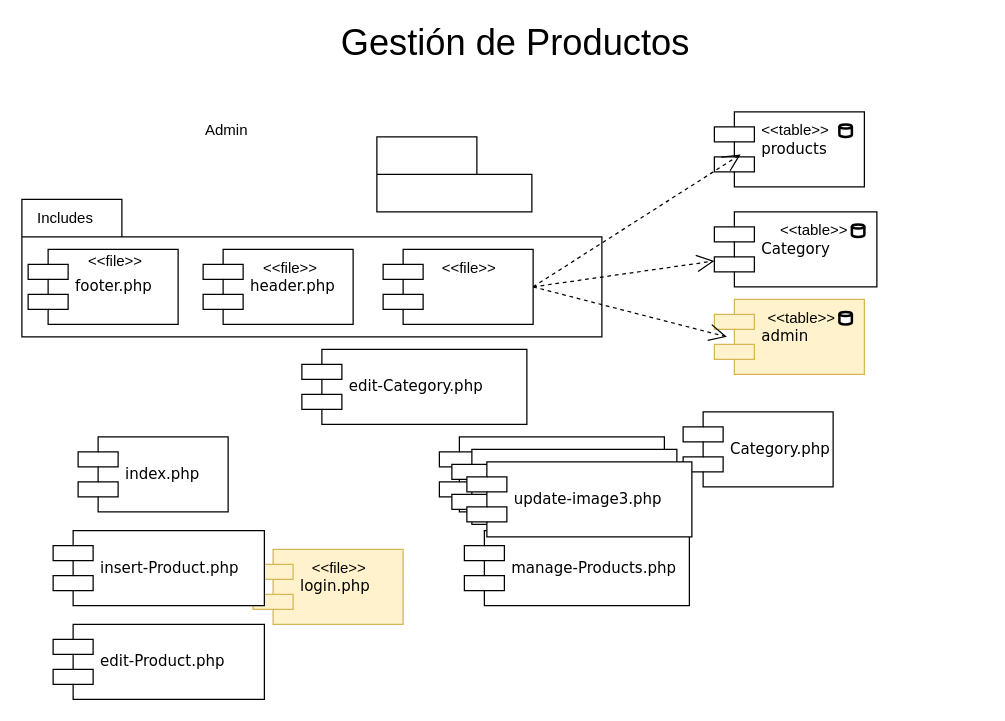
Some shapes in this 1005 by 721 pixel diagram are drawn without their labels. Here are the shapes that lost their labels. From the top down, the box of each, then its label:
(376, 136, 532, 212): ProductImages
(382, 248, 533, 324): Config.php
